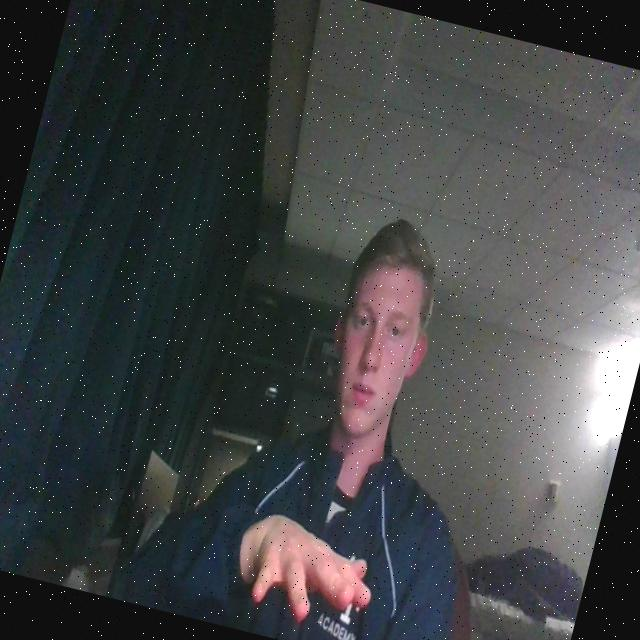paper: (234, 505, 387, 640)
